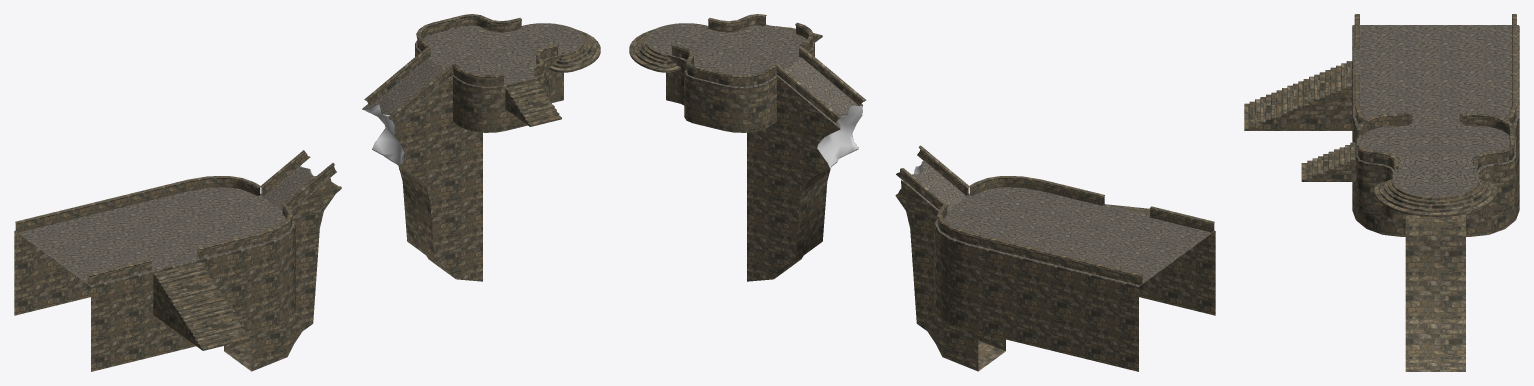
Rendered from CaveCastle.fbx.
The picture shows the model from 3 angles, left to right: view 1: azimuth 30°, elevation 25°; view 2: azimuth 150°, elevation 25°; view 3: azimuth 270°, elevation 25°; orthographic projection. The views are drawn at different scales.
Visible parts, largest first — view 1: CaveBridgeSecondPlatform, CaveCastleBridgeMain, CaveBridgeRailings, CaveBridgeFirstPlatform, CaveBridgeStairs2, CaveBridgeStairs1, CaveBridgeCircularStairs; view 2: CaveBridgeSecondPlatform, CaveCastleBridgeMain, CaveBridgeFirstPlatform, CaveBridgeRailings, CaveBridgeCircularStairs; view 3: CaveBridgeSecondPlatform, CaveBridgeFirstPlatform, CaveCastleBridgeMain, CaveBridgeStairs2, CaveBridgeRailings, CaveBridgeCircularStairs, CaveBridgeStairs1.
Part boxes in pixels (<box>): CaveBridgeSecondPlatform: <box>14,187,295,371</box>; CaveCastleBridgeMain: <box>224,58,482,371</box>; CaveBridgeRailings: <box>15,14,558,286</box>; CaveBridgeFirstPlatform: <box>415,23,583,132</box>; CaveBridgeStairs2: <box>153,262,249,350</box>; CaveBridgeStairs1: <box>505,81,561,126</box>; CaveBridgeCircularStairs: <box>522,23,600,72</box>; CaveBridgeSecondPlatform: <box>934,187,1215,371</box>; CaveCastleBridgeMain: <box>747,58,1005,371</box>; CaveBridgeFirstPlatform: <box>646,23,814,132</box>; CaveBridgeRailings: <box>671,14,1214,286</box>; CaveBridgeCircularStairs: <box>629,23,707,72</box>; CaveBridgeSecondPlatform: <box>1352,25,1519,236</box>; CaveBridgeFirstPlatform: <box>1355,123,1516,220</box>; CaveCastleBridgeMain: <box>1405,123,1465,371</box>; CaveBridgeStairs2: <box>1244,61,1352,130</box>; CaveBridgeRailings: <box>1354,14,1516,170</box>; CaveBridgeCircularStairs: <box>1374,179,1497,217</box>; CaveBridgeStairs1: <box>1301,142,1355,181</box>.
Size of what is drawn, in the model's own units: 63.19 by 28.63 by 25.53.
